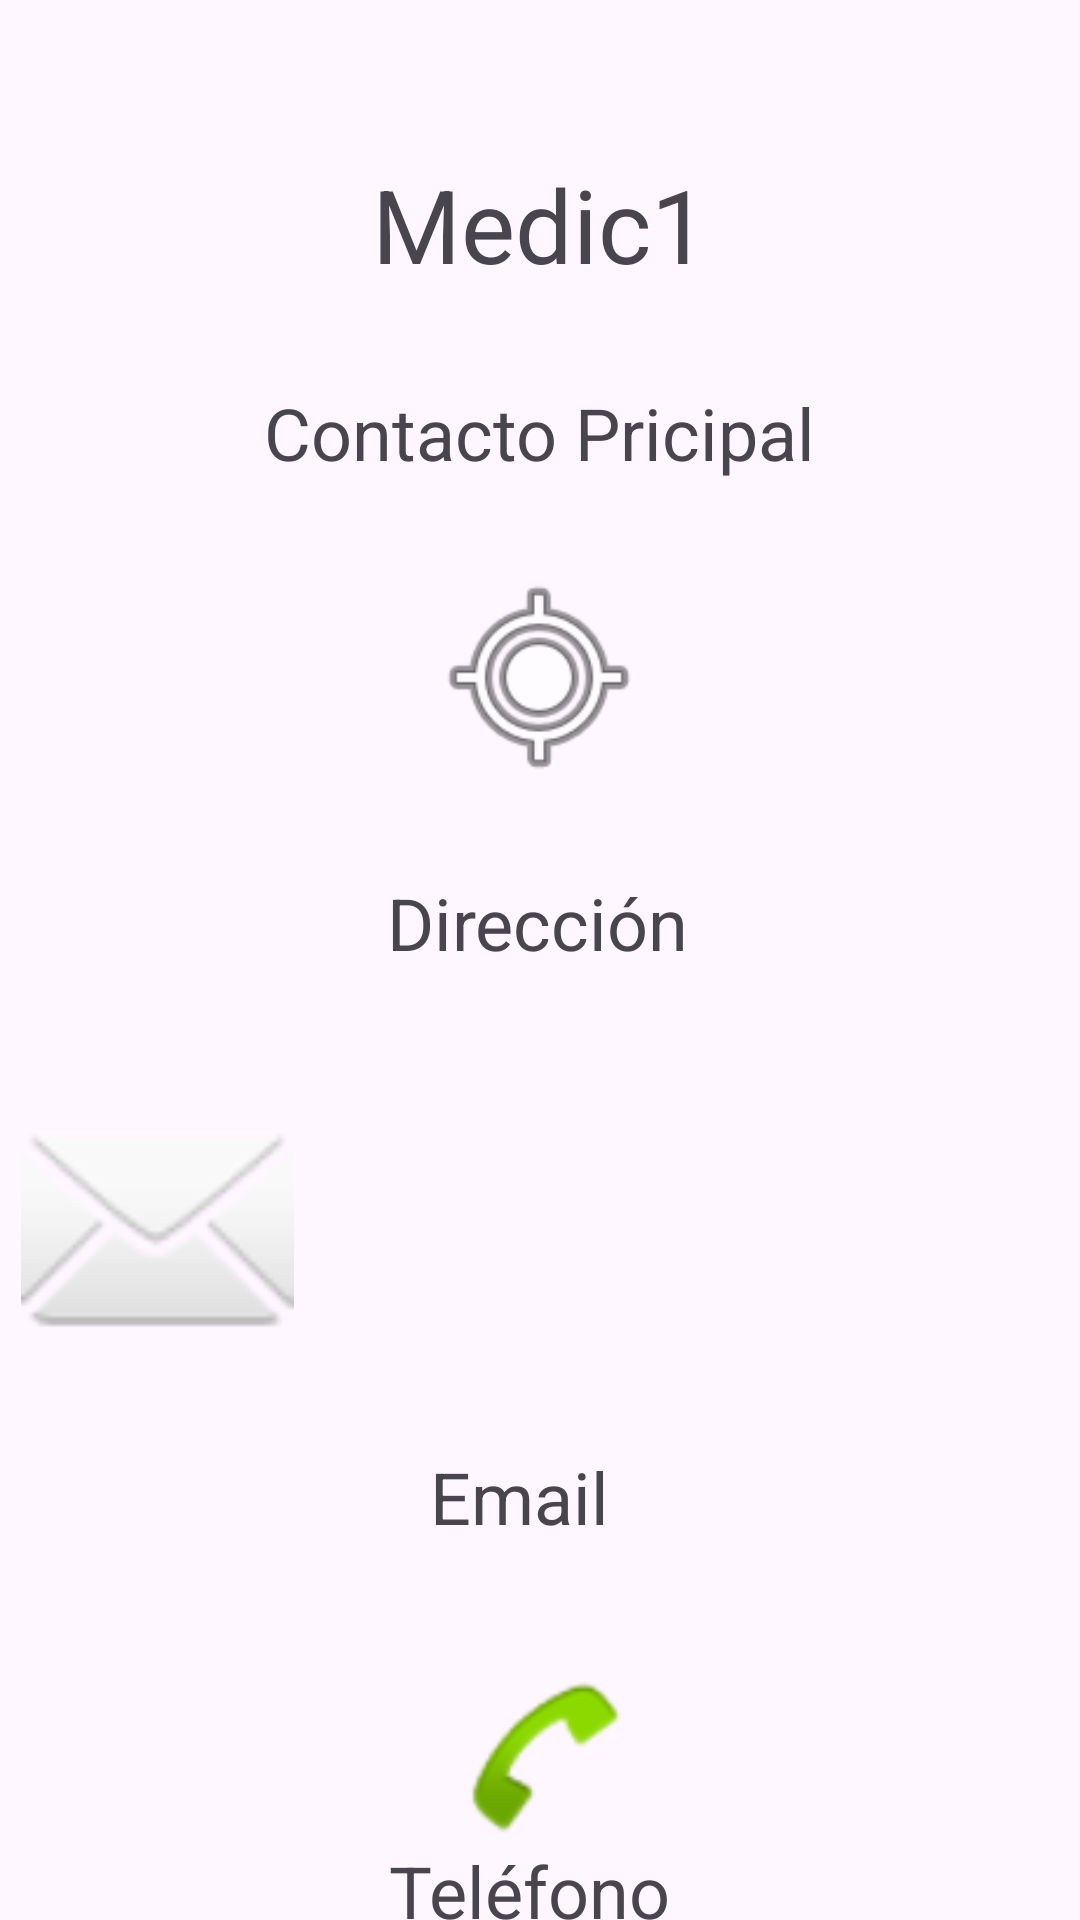

Where icons sit on this 1080 × 1920 app screen, as (x1, y1, x2, y2):
mylocation: (449, 587, 629, 768)
